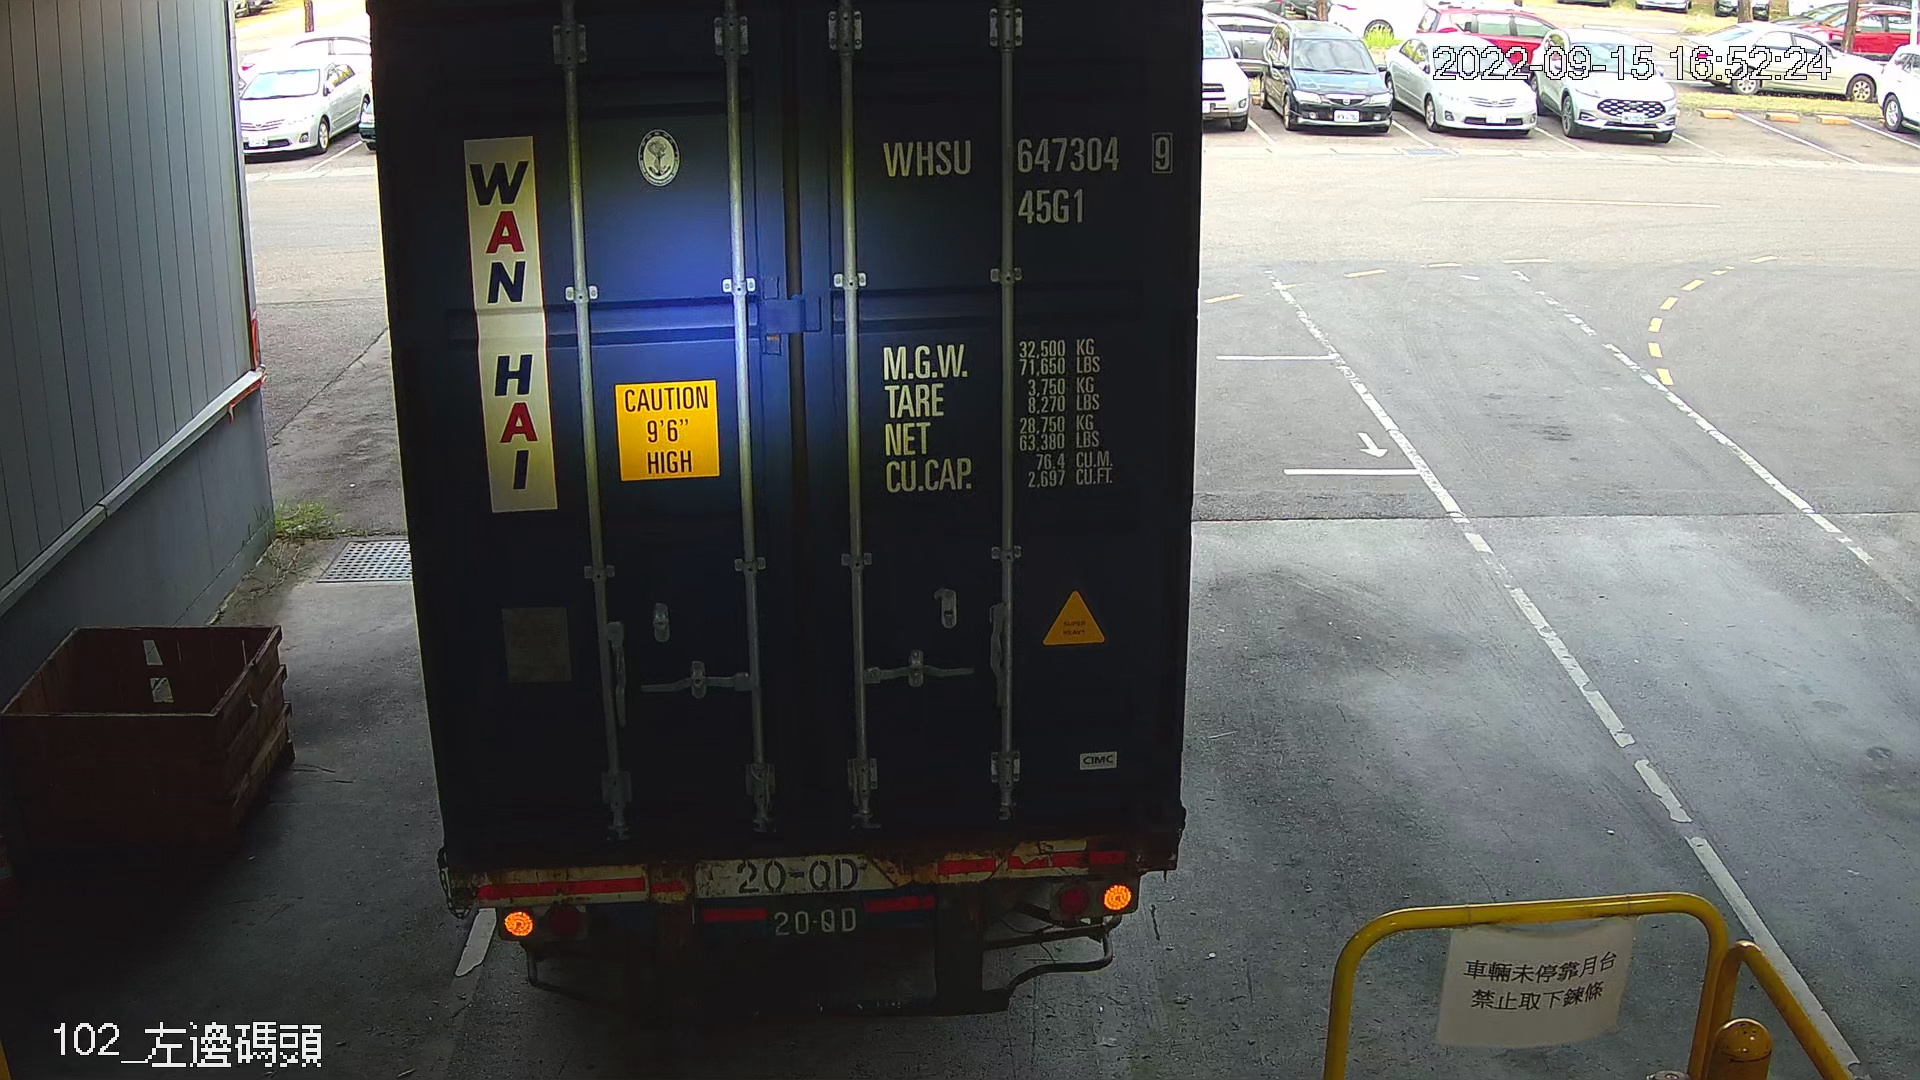container: (870, 127, 1184, 235)
